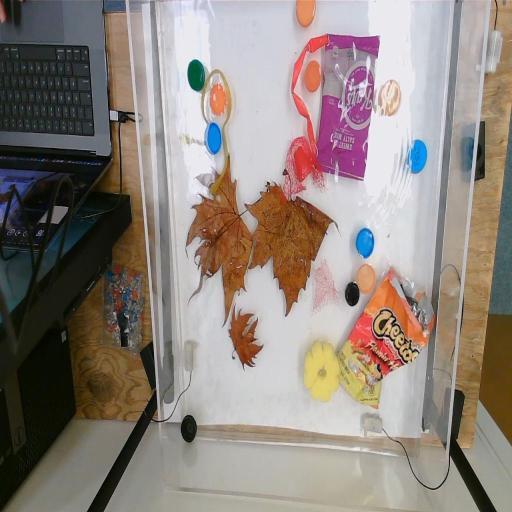Bottle Cap: (380, 78, 402, 116), (408, 136, 428, 176), (304, 58, 322, 94), (355, 227, 375, 259), (188, 58, 206, 93), (356, 264, 376, 294), (295, 0, 315, 26), (206, 122, 222, 154), (210, 82, 226, 114), (181, 414, 197, 444), (344, 280, 360, 306)
Cone Cap: (292, 144, 312, 180)
Leaf: (186, 152, 270, 326), (245, 166, 339, 316), (229, 302, 263, 372)
Netting: (286, 136, 324, 198), (315, 260, 338, 314)
Plastic Bag: (338, 266, 434, 410), (315, 34, 381, 182)
Plastic Strand: (290, 34, 329, 158), (202, 69, 234, 197)
Sponge: (304, 340, 340, 402)
